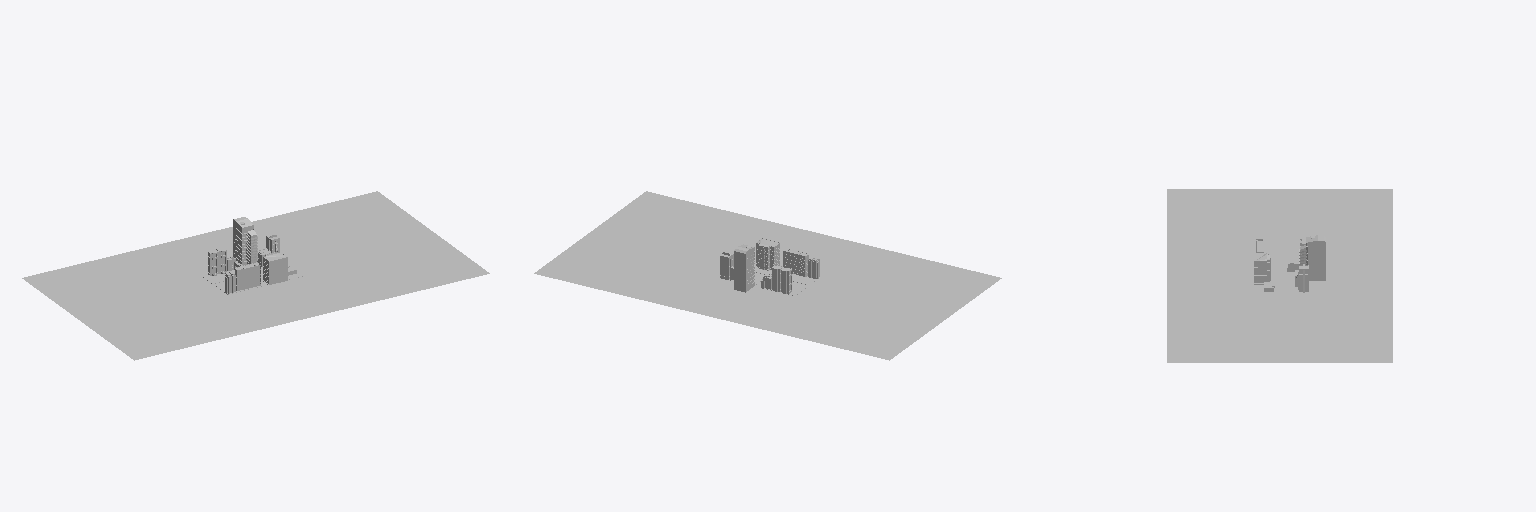
The model's file is cblock3.obj.
3 views of the same model, side by side, from view 1: azimuth 30°, elevation 25°; view 2: azimuth 150°, elevation 25°; view 3: azimuth 270°, elevation 25° (orthographic).
Parts seen in each view (by area): view 1: Plane001, Box003, Box017; view 2: Plane001, Box003, Box017; view 3: Plane001, Box003.
Part boxes in pixels (x1,y1,x2,y2): Plane001: (22, 191, 489, 360); Box003: (233, 217, 257, 265); Box017: (263, 252, 287, 284); Plane001: (534, 191, 1001, 360); Box003: (734, 244, 754, 292); Box017: (756, 238, 779, 270); Plane001: (1167, 189, 1392, 362); Box003: (1299, 235, 1325, 280).
Bounding box in the file's own units: 1658 × 185 × 909.